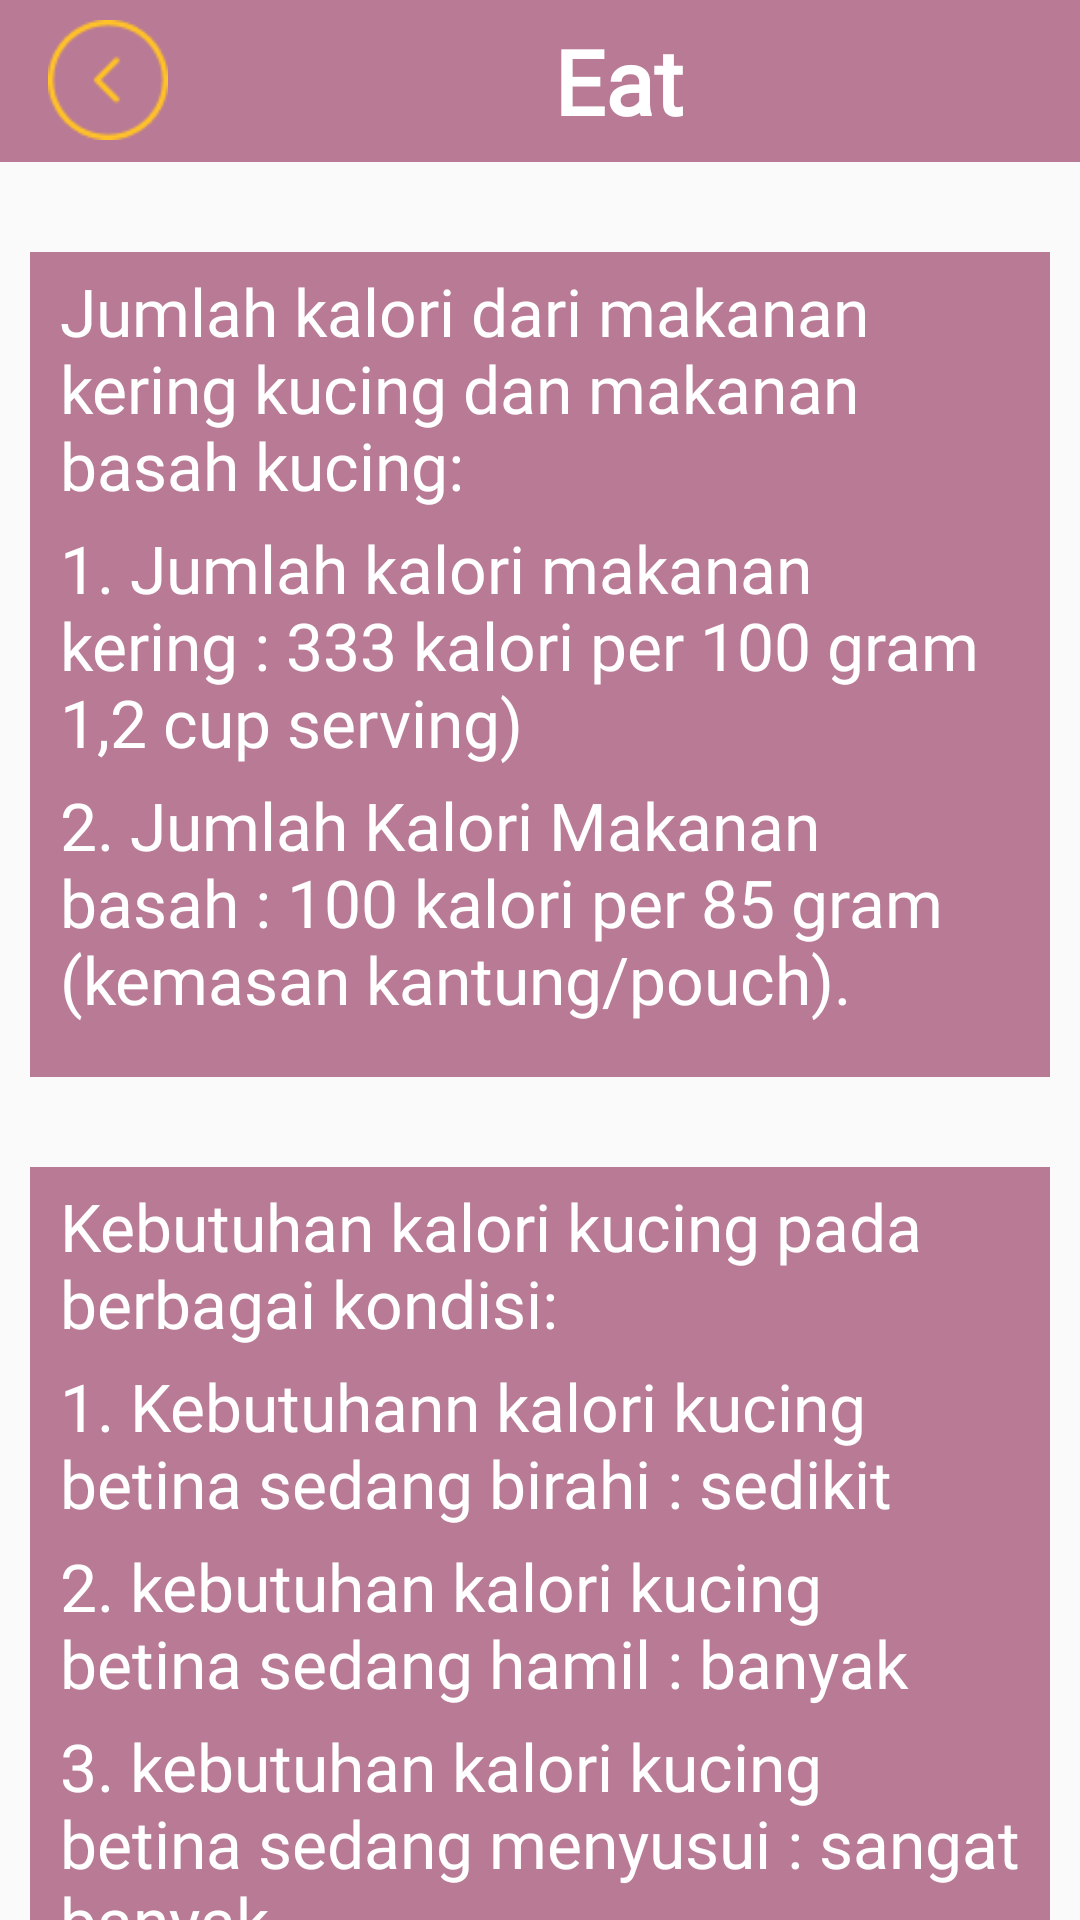

Where icons sit on this 1080 x 1920 app screen, as [x1, y1, x2, y2]:
back: [48, 20, 168, 140]
